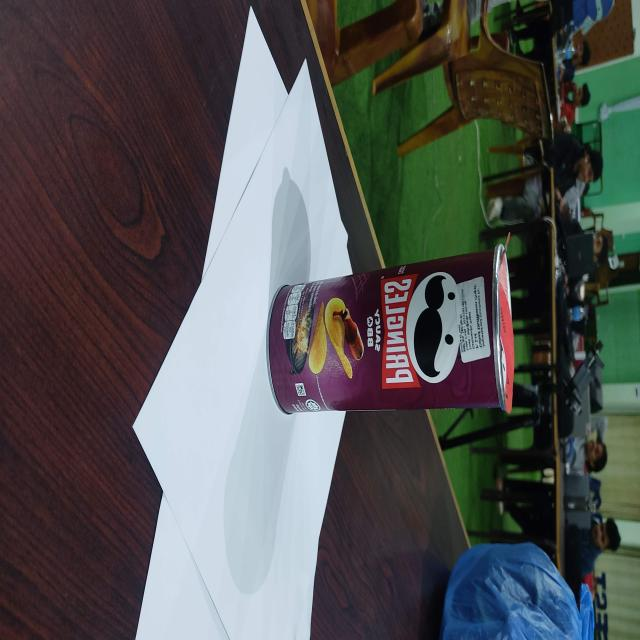Camer Stand: (265, 236, 516, 416)
